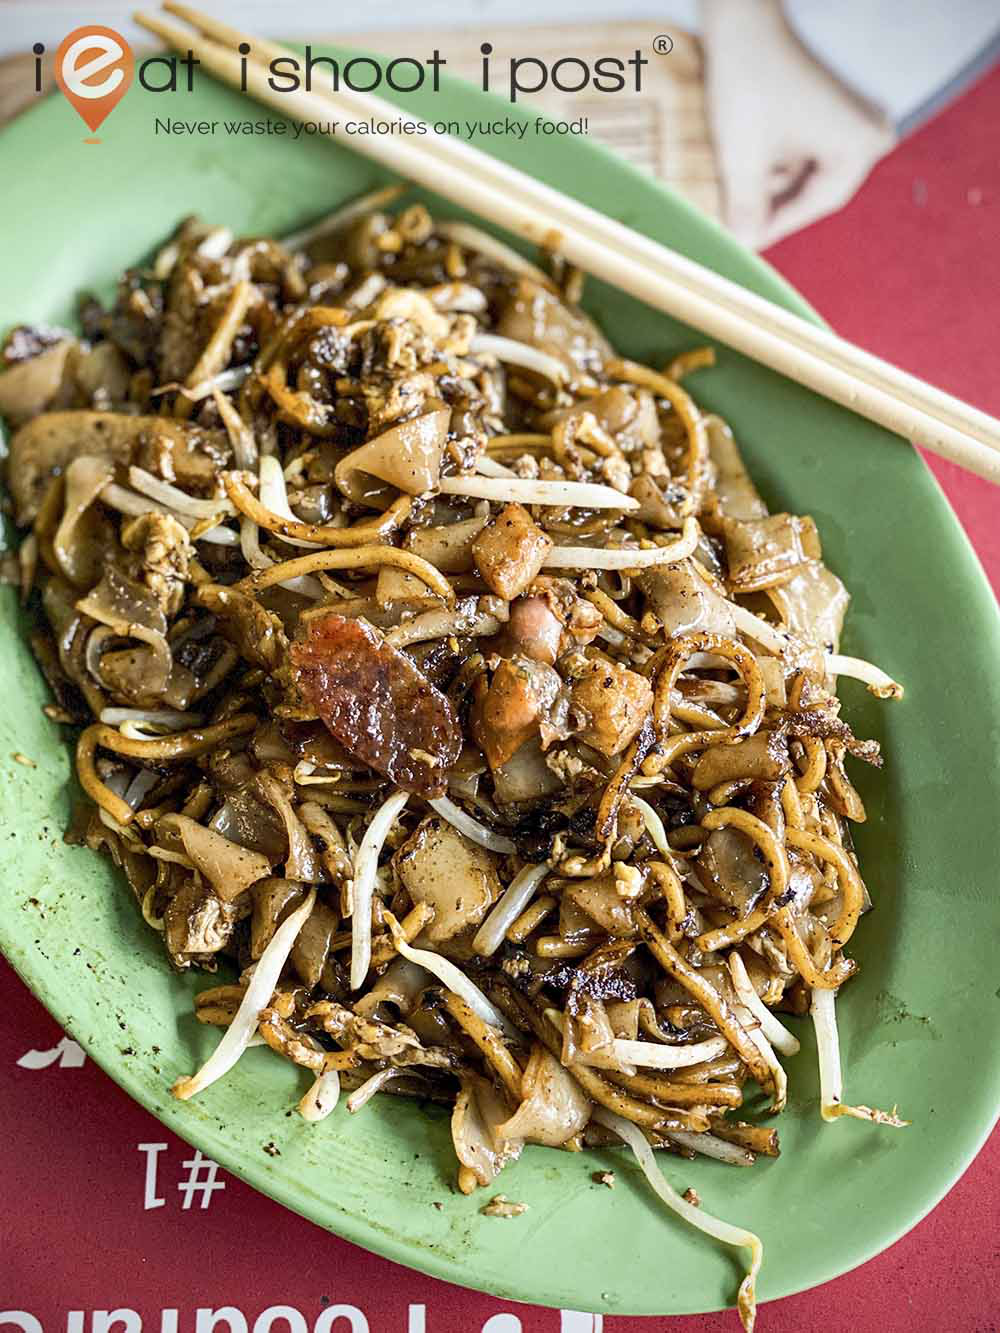Char Kway Teow: (19, 195, 877, 1166)
